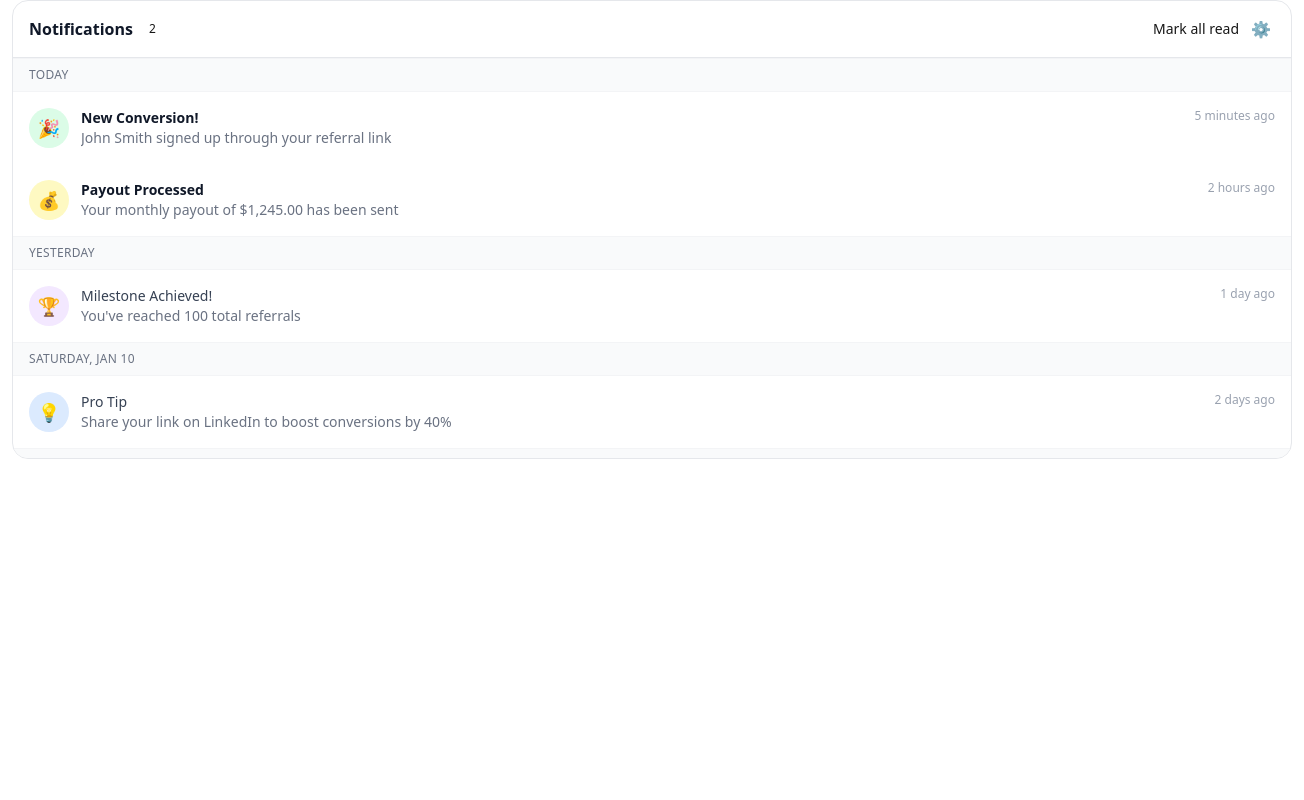
it: NotificationCenter Component › should toggle preferences panel
Click the button named "Settings". click: (1261, 29)
box: [1247,13,1275,45]
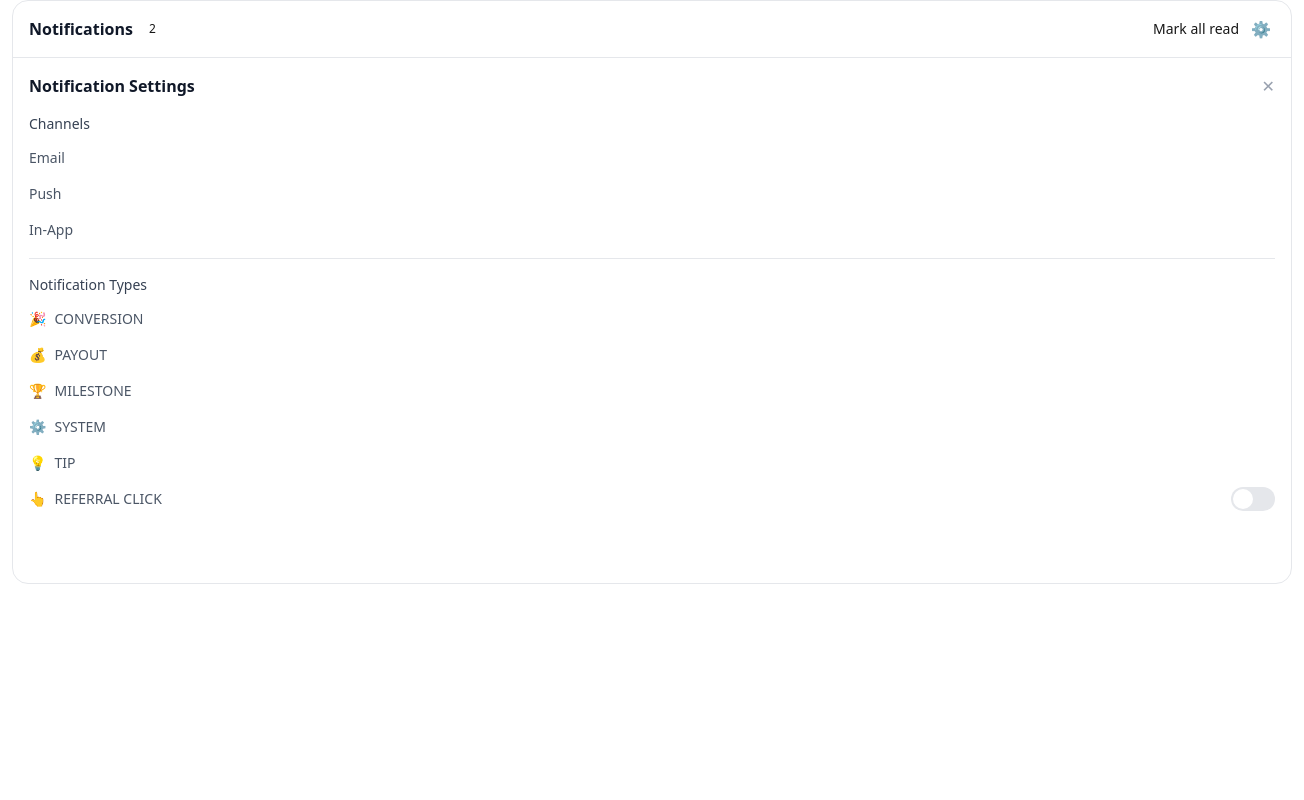
Expected: the heading "Notification Settings" is shown, [29,74,195,98]
Expected: the text "Channels" is shown, [29,114,90,133]
